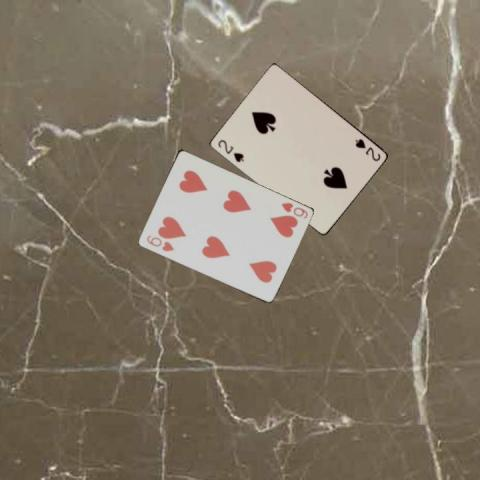2s: (353, 135, 382, 163), (216, 137, 246, 163)
6h: (278, 199, 309, 221), (144, 232, 176, 253)
